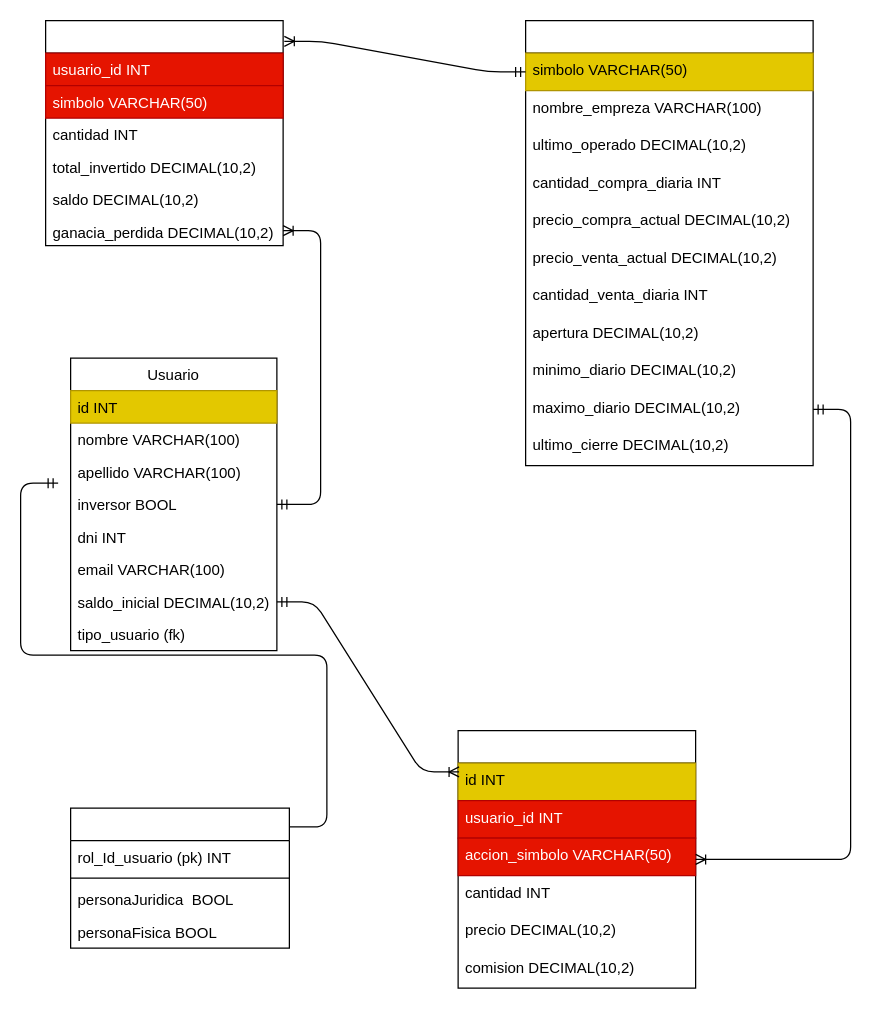
This 871x1009 diagram has some shape labels left out. The shapes that lost their labels are listed below. From the top down, each one's box as (x1, y1, x2, y2) in pixels, then its label:
(44, 19, 283, 246): Portafolio
(524, 19, 813, 466): Accion
(69, 807, 289, 948): tipoUsuario
(457, 729, 696, 988): Transaccion
